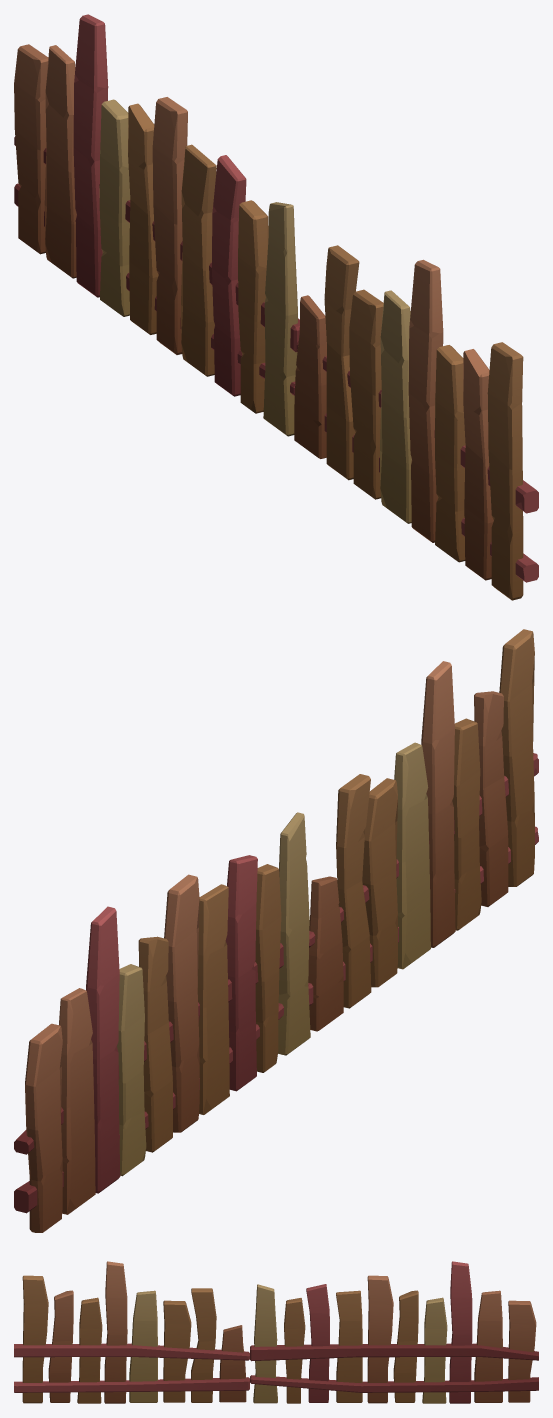
File: pagar1.fbx
3 renders of one model, top to bottom at view 1: azimuth 30°, elevation 25°; view 2: azimuth 150°, elevation 25°; view 3: azimuth 270°, elevation 25°, orthographic. The views are drawn at different scales.
Parts seen in each view (by area): view 1: Pagar fix.001; view 2: Pagar fix.001; view 3: Pagar fix.001.
Boxes of the visible parts, <box> form: Pagar fix.001: <box>14,14,538,600</box>; Pagar fix.001: <box>14,629,538,1232</box>; Pagar fix.001: <box>14,1261,538,1403</box>.
Size of the model in its own units: 15.26 by 188 by 637.
1 material, 1 textured.
